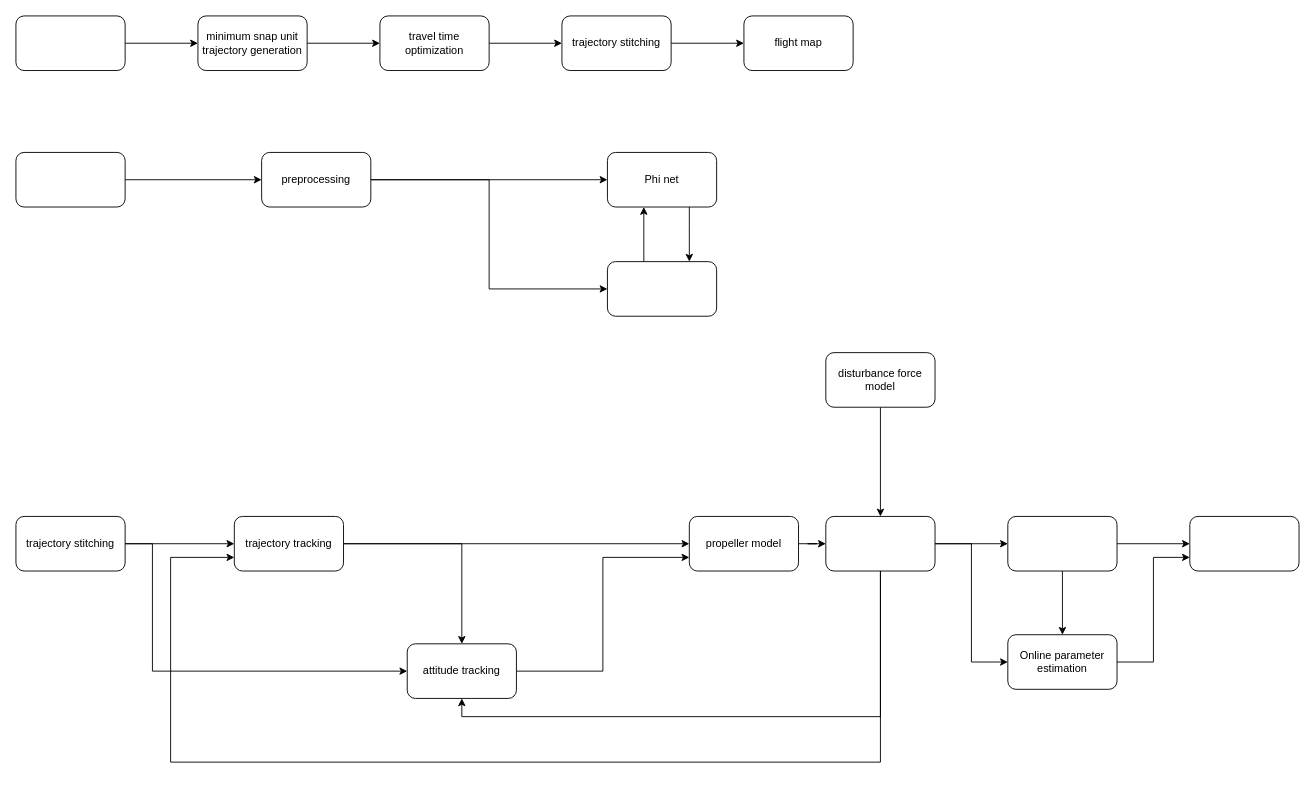
Some shapes in this 1315 by 785 pixel diagram are drawn without their labels. The box of each missing label's shape, as (x1, y1, x2, y2) in pixels:
estimated disturbance force: (1189, 516, 1299, 571)
H net: (607, 261, 717, 316)
rigid body dynamics: (825, 516, 935, 571)
simulation data: (15, 152, 125, 207)
Trained Phi net: (1007, 516, 1117, 571)
waypoint random sampling: (15, 15, 125, 71)
